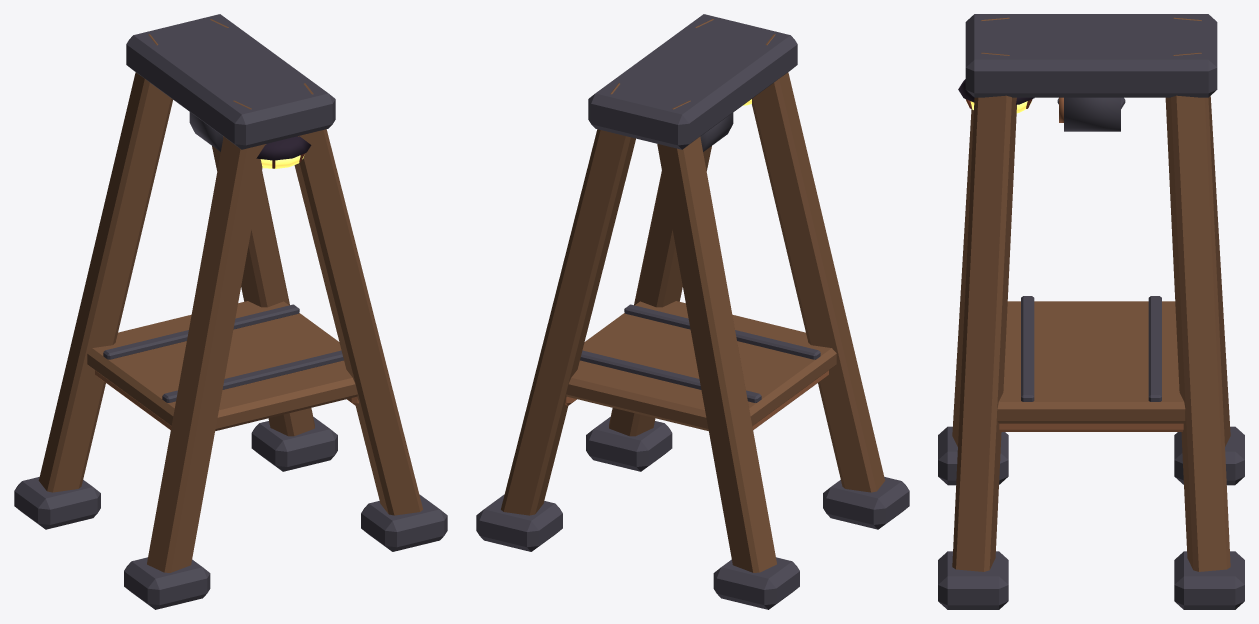
Rendered from underworks_hoist.glb.
3 renders of one model, left to right at view 1: azimuth 30°, elevation 25°; view 2: azimuth 150°, elevation 25°; view 3: azimuth 270°, elevation 25°, orthographic. The views are drawn at different scales.
Parts seen in each view (by area): view 1: underworks_hoist; view 2: underworks_hoist; view 3: underworks_hoist.
Boxes of the visible parts, left/top/right/bottom form: underworks_hoist: left=14, top=14, right=447, bottom=609; underworks_hoist: left=476, top=14, right=909, bottom=609; underworks_hoist: left=938, top=14, right=1244, bottom=609.
Size of the model in its own units: 3.92 by 5.77 by 3.22.
